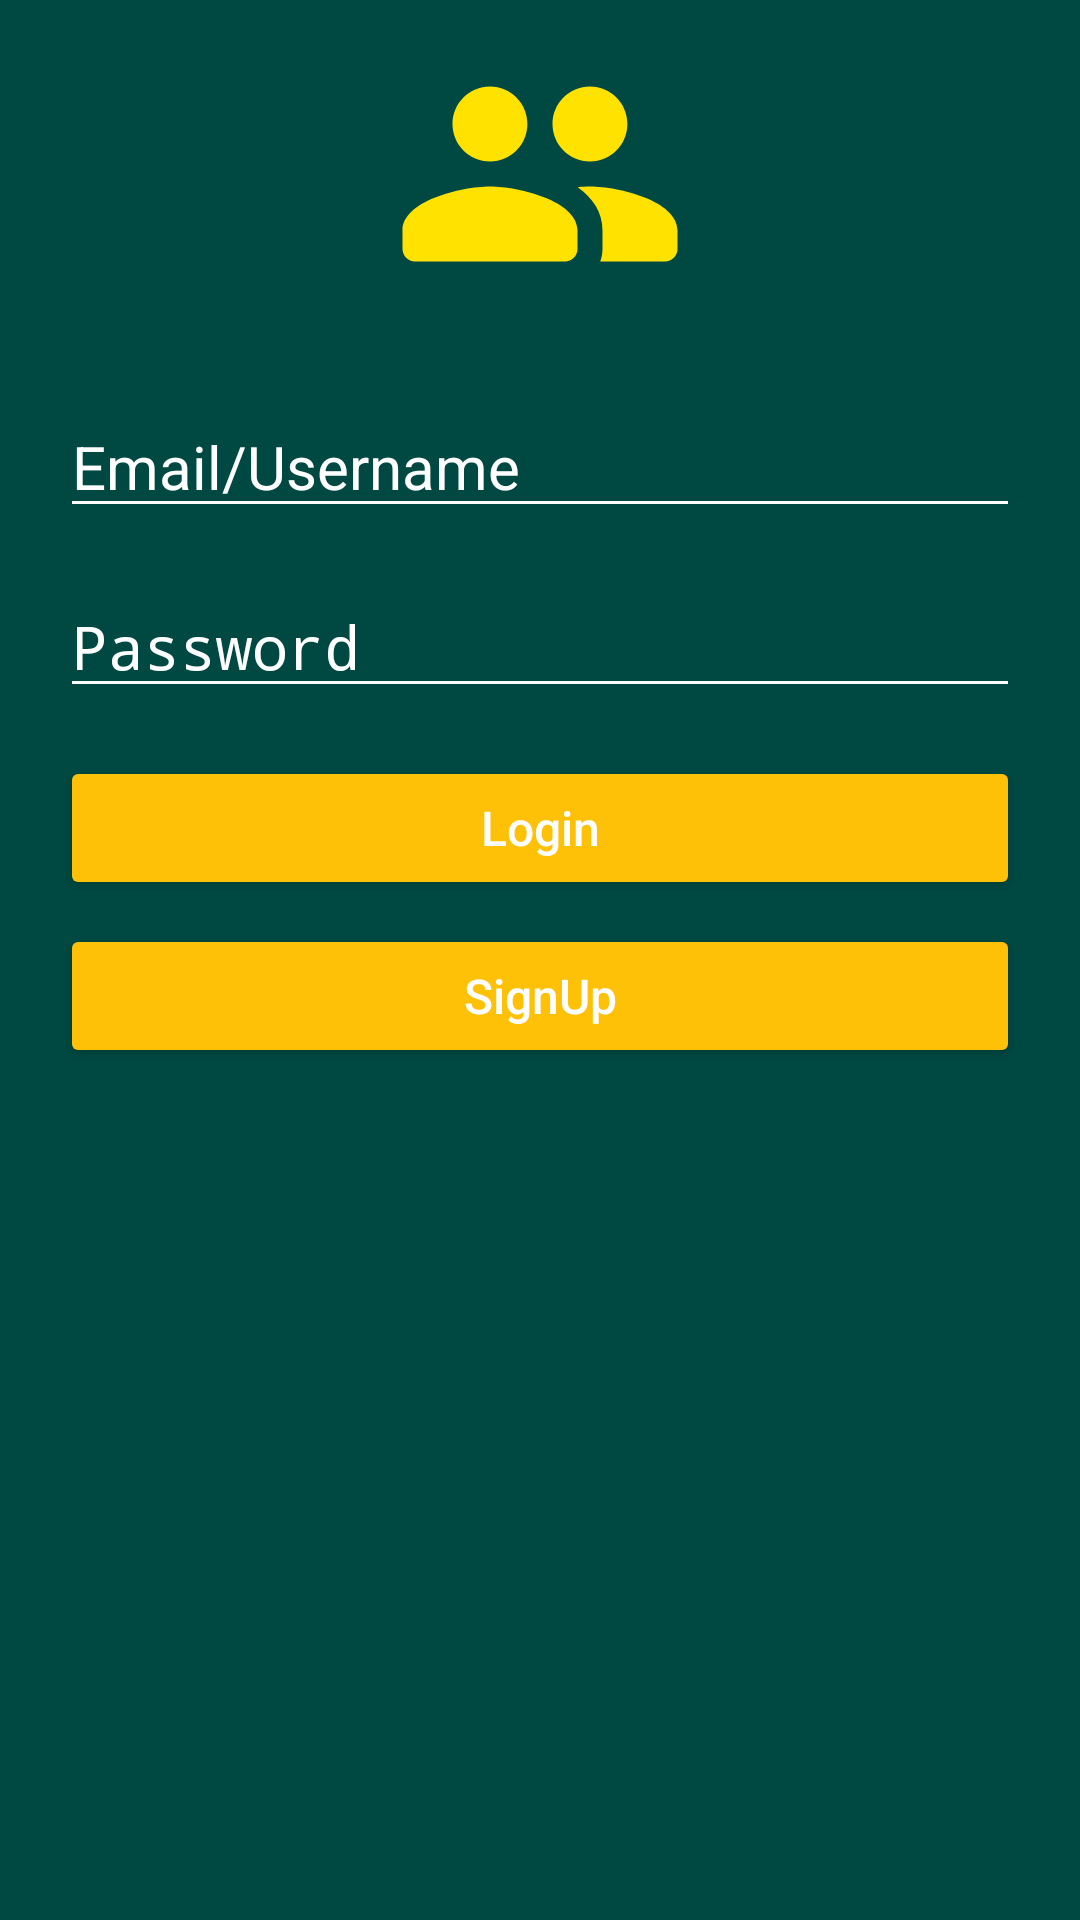

Icon bounding boxes for this 1080 × 1920 phone screenshot, format (x1, y1, x2, y2):
people: (402, 86, 678, 262)
